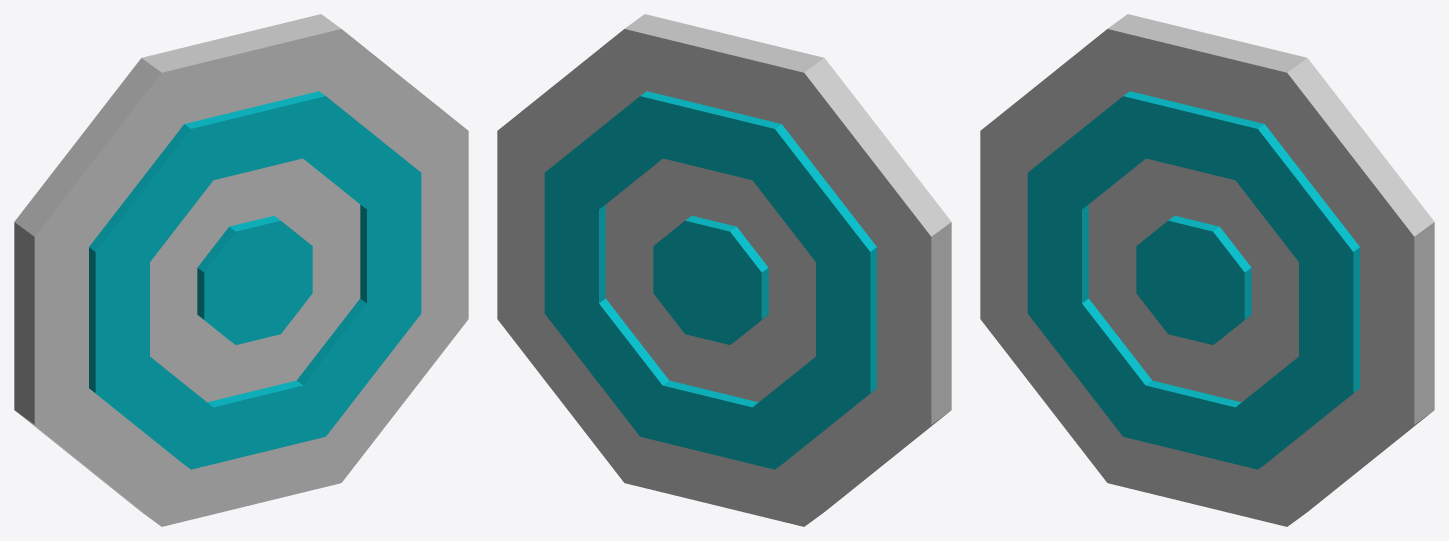
File: Light-Blue_Target.obj
The picture shows the model from 3 angles, left to right: view 1: azimuth 30°, elevation 25°; view 2: azimuth 150°, elevation 25°; view 3: azimuth 330°, elevation 25°; orthographic projection.
Visible parts, largest first — view 1: Octagon_Base_Octabase, Octagon_Big_Octabig, Octagon_Bullseye_Octabullseye; view 2: Octagon_Base_Octabase, Octagon_Big_Octabig, Octagon_Bullseye_Octabullseye; view 3: Octagon_Base_Octabase, Octagon_Big_Octabig, Octagon_Bullseye_Octabullseye.
Part boxes in pixels (bbox=[...]): Octagon_Base_Octabase: bbox=[14, 14, 468, 526]; Octagon_Big_Octabig: bbox=[89, 91, 421, 469]; Octagon_Bullseye_Octabullseye: bbox=[197, 216, 312, 344]; Octagon_Base_Octabase: bbox=[497, 14, 951, 526]; Octagon_Big_Octabig: bbox=[544, 91, 876, 469]; Octagon_Bullseye_Octabullseye: bbox=[653, 216, 768, 344]; Octagon_Base_Octabase: bbox=[980, 14, 1434, 526]; Octagon_Big_Octabig: bbox=[1027, 91, 1359, 469]; Octagon_Bullseye_Octabullseye: bbox=[1136, 216, 1251, 344].
Bounding box in the file's own units: 3.7 × 3.7 × 0.5.
